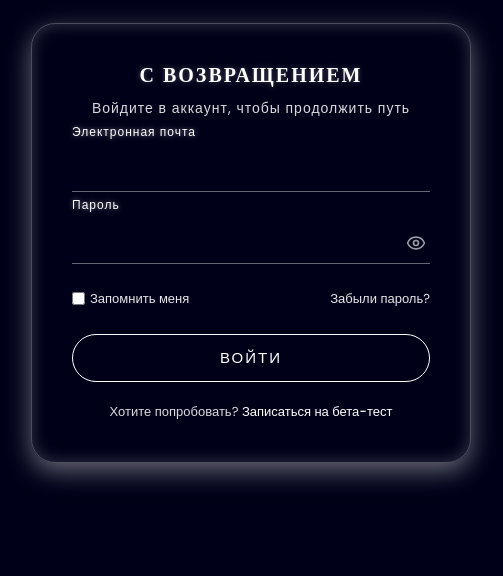
Test: SignIn › shows error when password is empty
Type "user@example.com" into the field labelled "Электронная почта" at (251,168), box [72,144,430,192]
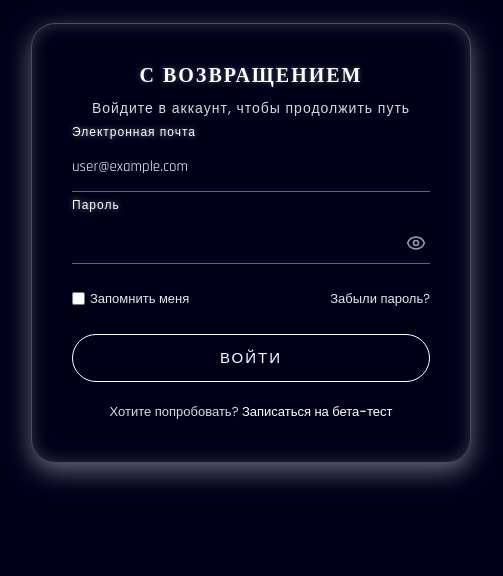
Submit the form labelled "Электронная почта", box [72,144,430,382]
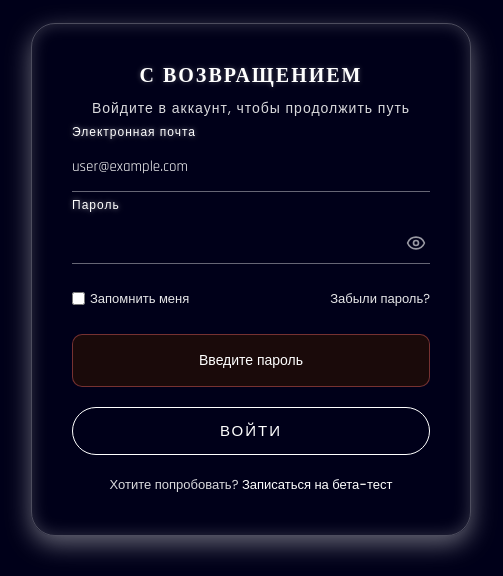
Now the text "Введите пароль" is shown, box [72,334,430,386]
